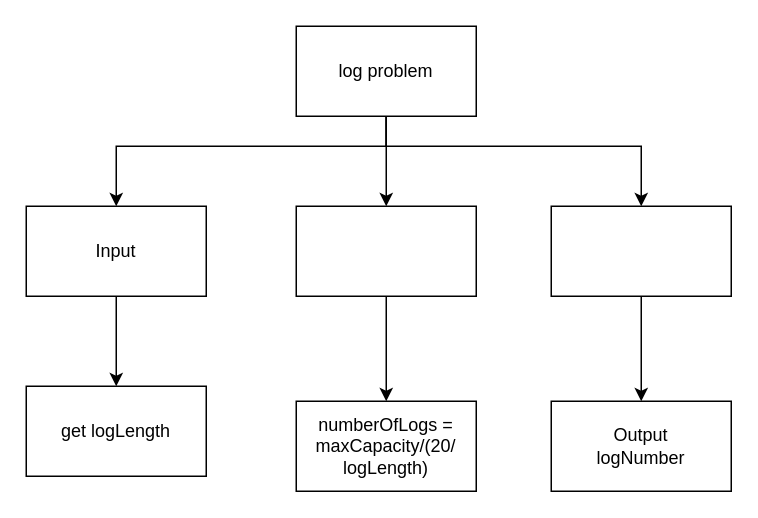
This 758x518 diagram has some shape labels left out. Each missing label, with the centre of its shape:
Output: the point at 640,250
Process: the point at 385,250
